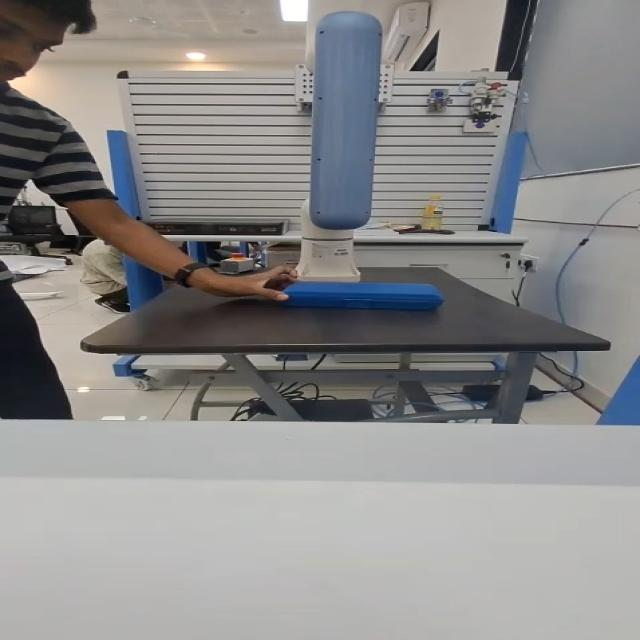top-surface: (299, 282, 425, 292)
